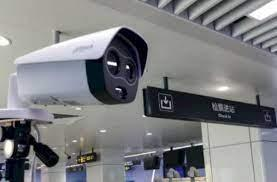tutu: (6, 27, 158, 115)
